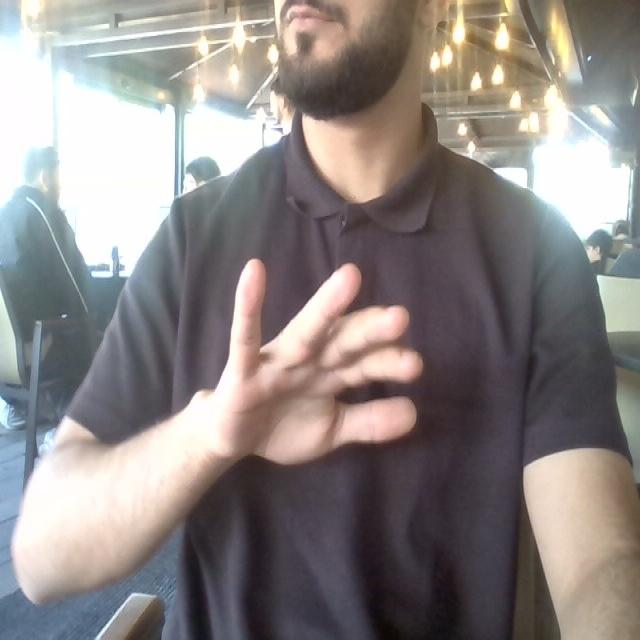Hand: (189, 260, 421, 463)
